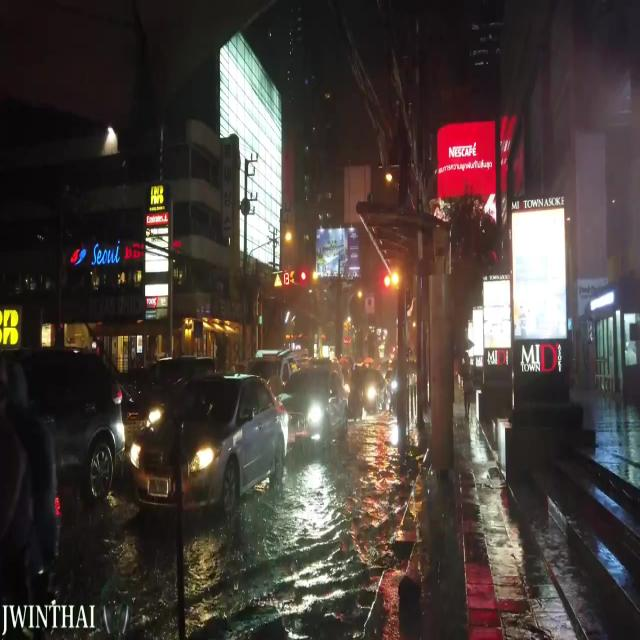Car: (129, 378, 284, 512), (284, 369, 349, 450)
